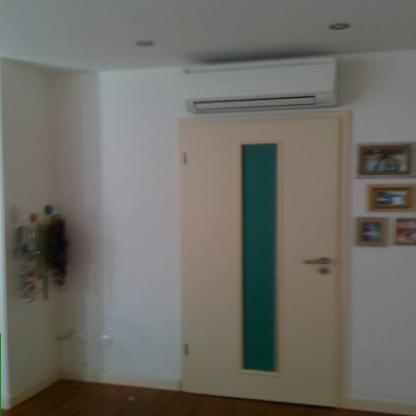door: (185, 122, 339, 408)
hinged: (183, 341, 189, 357), (182, 152, 187, 163)
lever: (299, 258, 332, 266)
